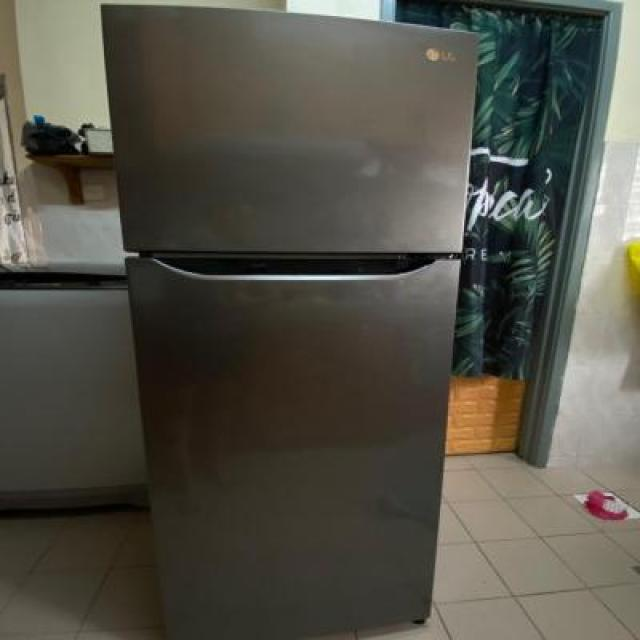refrigerator: (99, 3, 483, 640)
